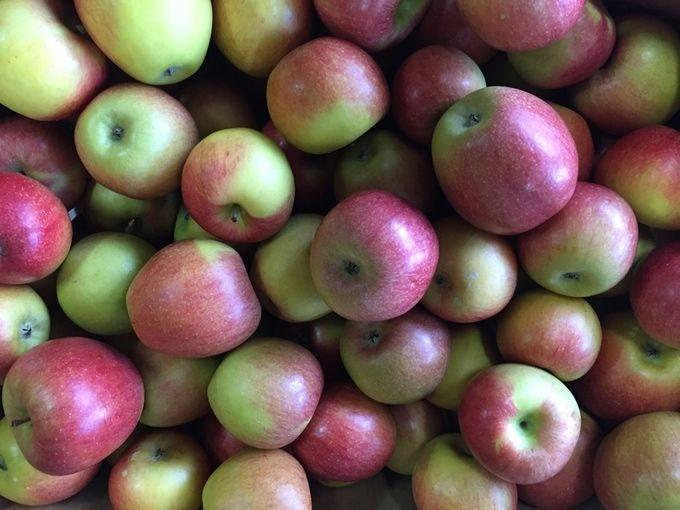Apple: (434, 88, 578, 234), (126, 238, 262, 357), (310, 195, 436, 322), (459, 364, 582, 484), (74, 88, 200, 202)
